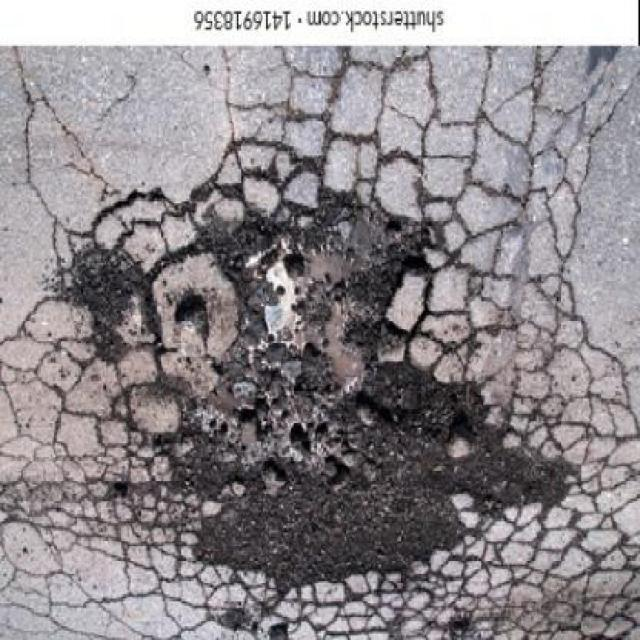Pothole: (111, 179, 584, 595)
